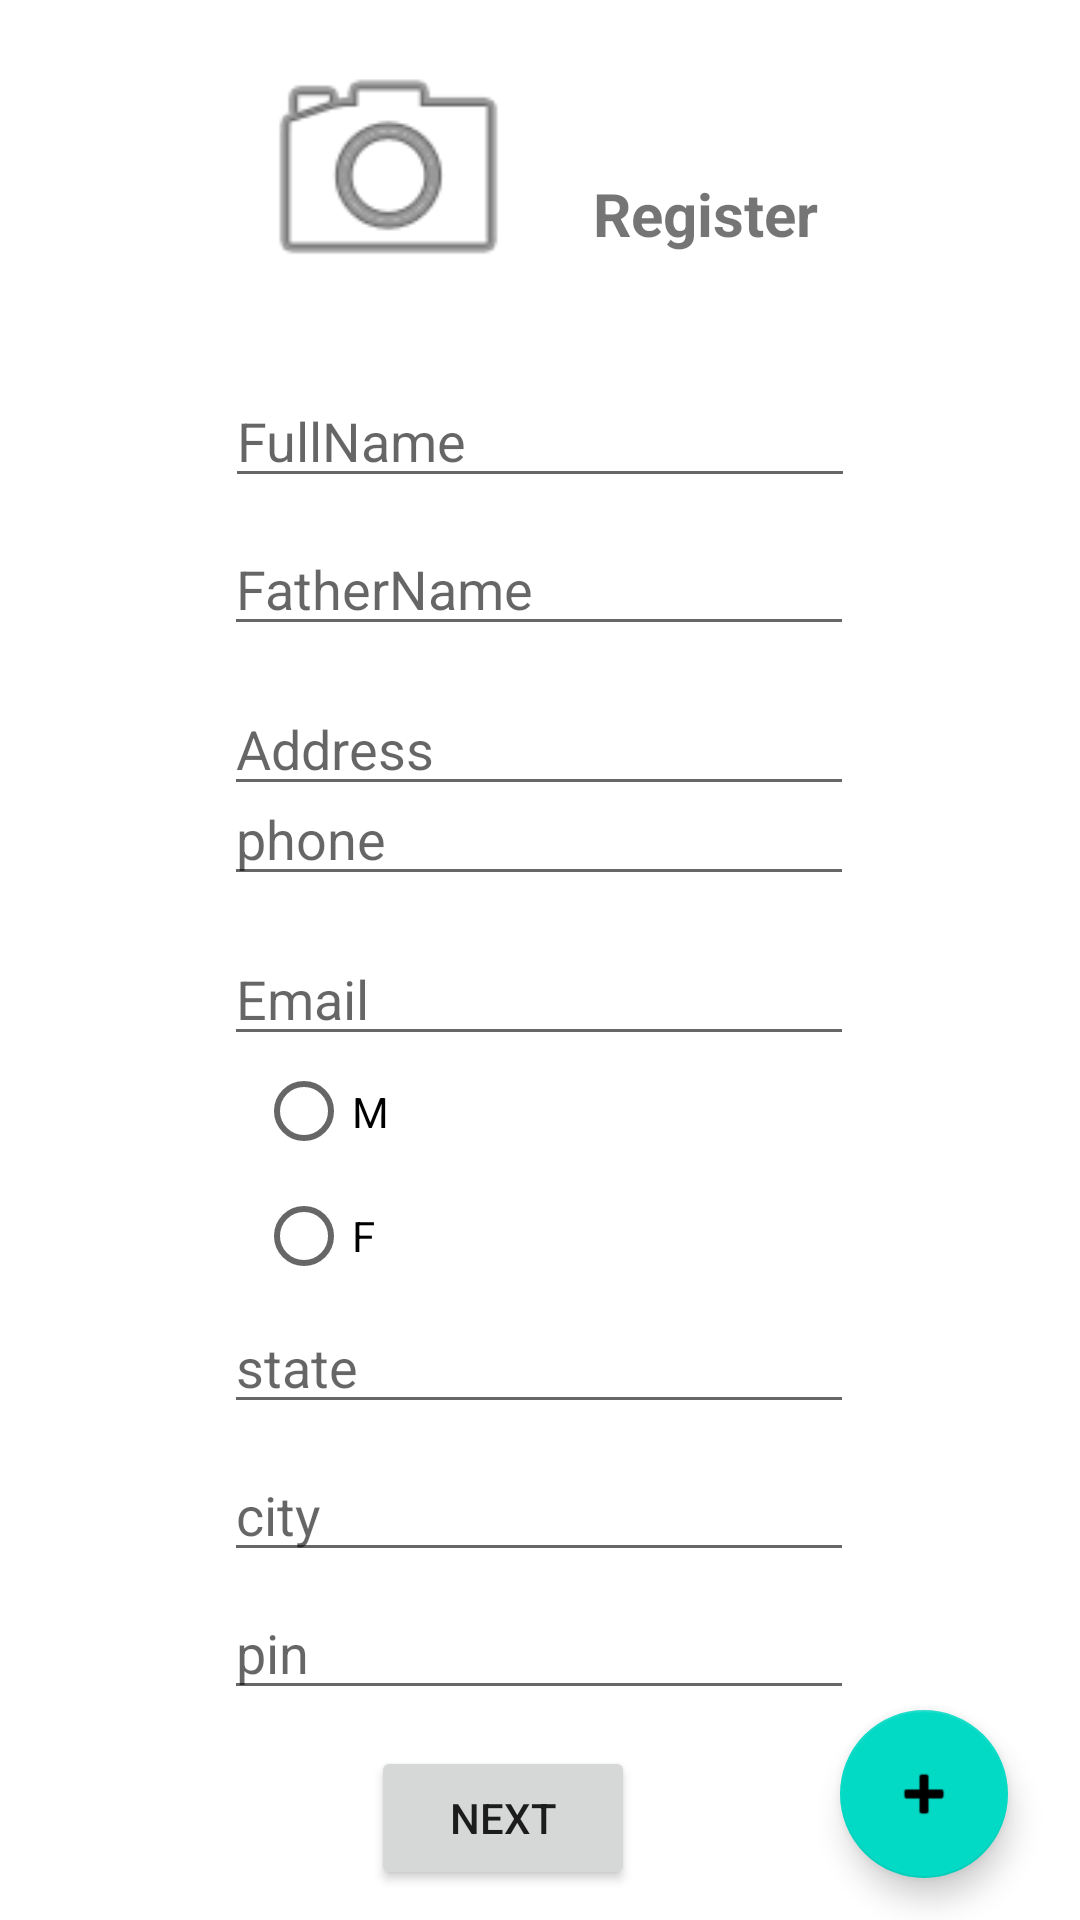

Icon click points for this 1080px x 1920px phone screenshot, format point (x, y):
add: point (924, 1794)
camera: point (388, 167)
